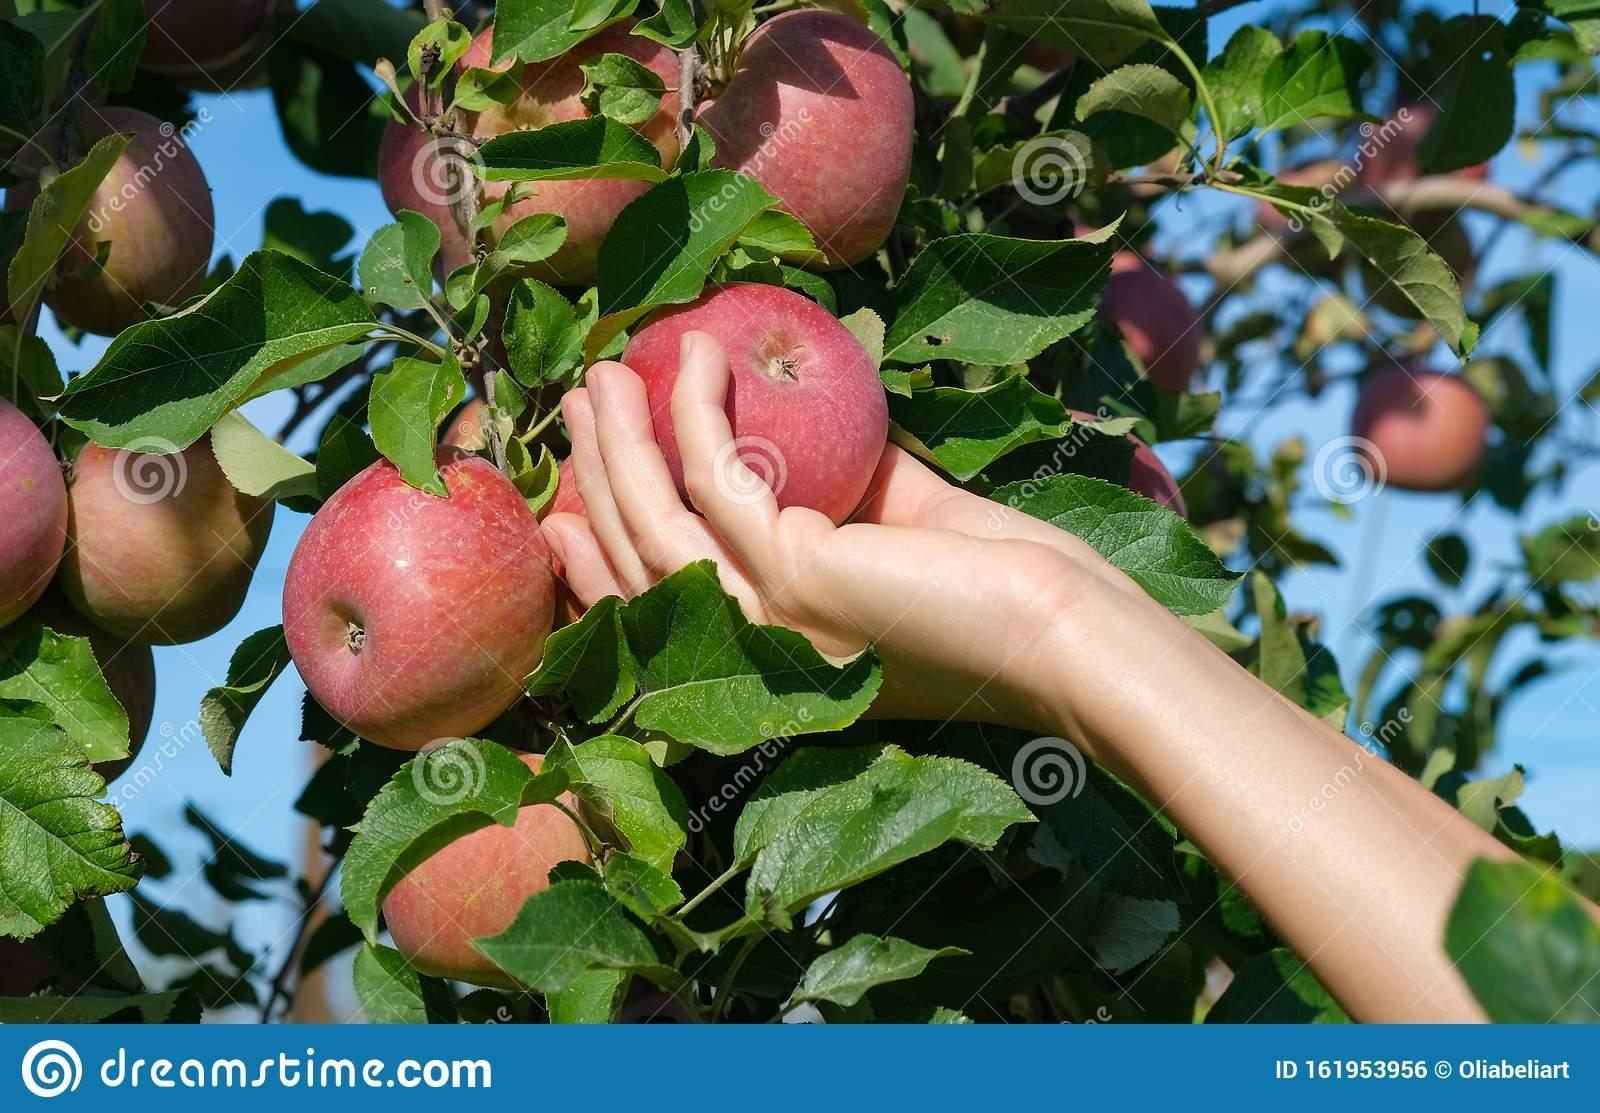apple: (381, 16, 703, 291), (281, 449, 565, 751), (619, 281, 886, 524), (694, 9, 918, 264), (379, 743, 588, 993), (60, 417, 275, 651), (27, 107, 219, 337), (1, 397, 72, 628)
